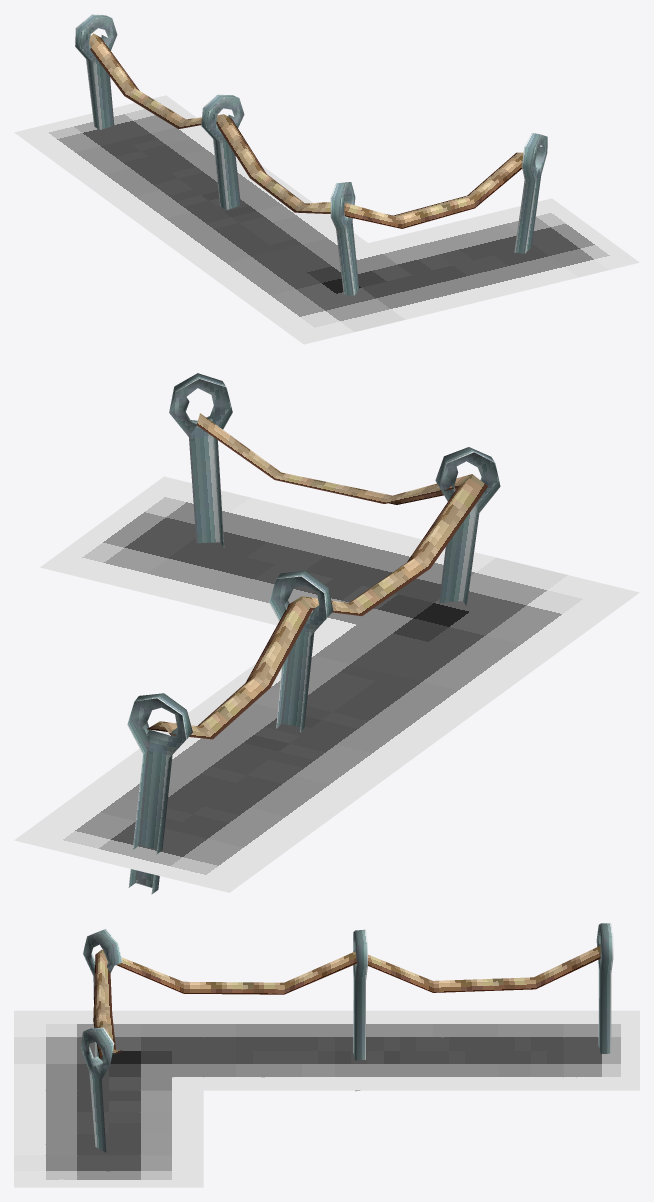
The model's file is int_fence_00.dae.
The picture shows the model from 3 angles, top to bottom: view 1: azimuth 30°, elevation 25°; view 2: azimuth 150°, elevation 25°; view 3: azimuth 270°, elevation 25°; orthographic projection. The views are drawn at different scales.
Visible parts, largest first — view 1: int_fence_00; view 2: int_fence_00; view 3: int_fence_00.
Part boxes in pixels (<box>): int_fence_00: <box>14,14,639,344</box>; int_fence_00: <box>14,373,639,894</box>; int_fence_00: <box>14,923,639,1187</box>.
Size of the model in its own units: 44.17 by 18.13 by 66.
2 materials, 2 textured.
